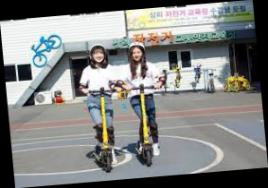helmet: (118, 39, 173, 169), (76, 41, 130, 173)
